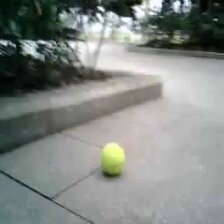tennis: (99, 143, 123, 173)
